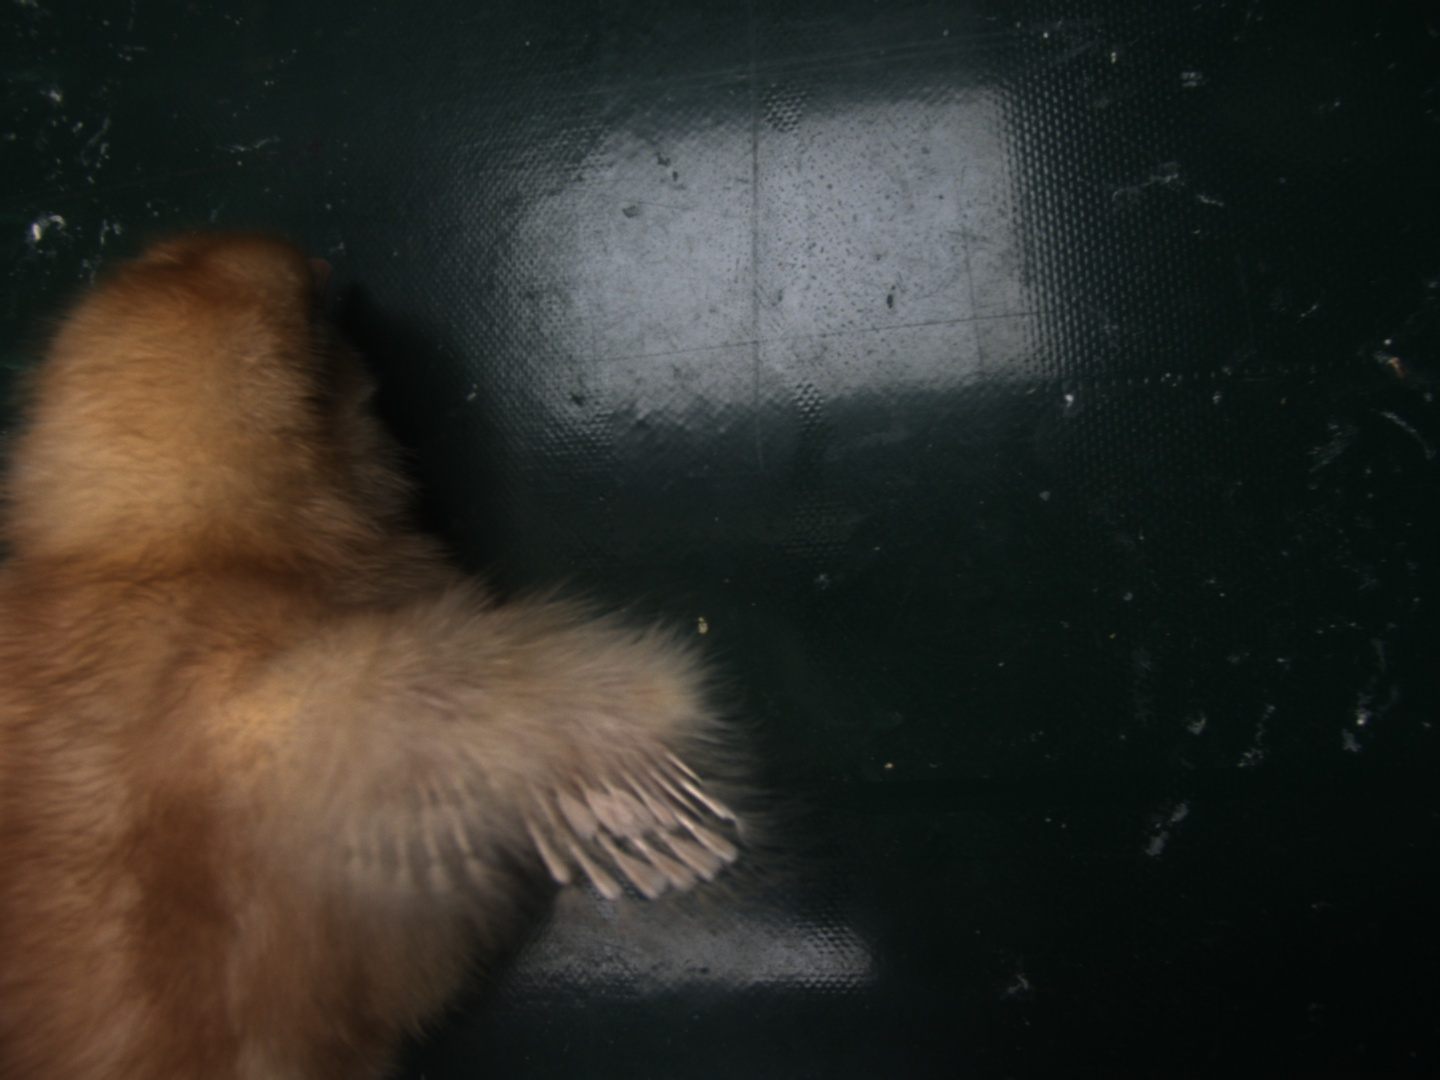female: (517, 739, 742, 898)
